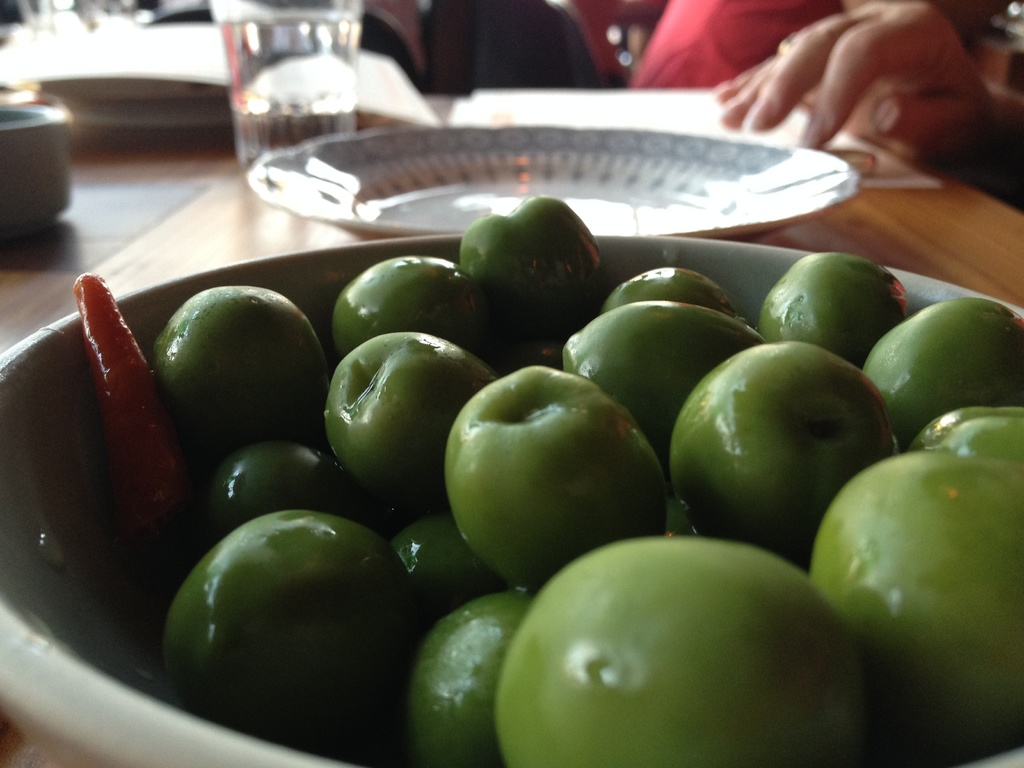person: (195, 0, 600, 98)
